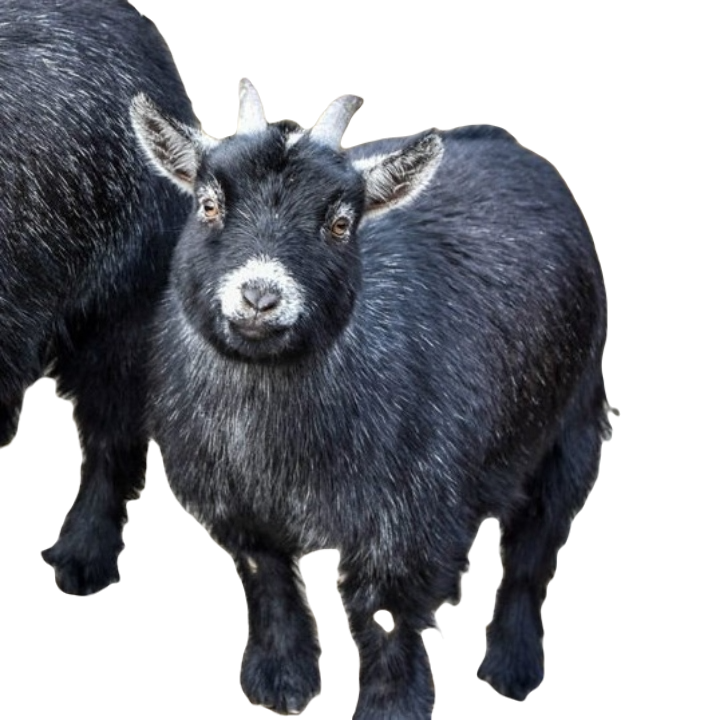Goat: (101, 74, 600, 717)
